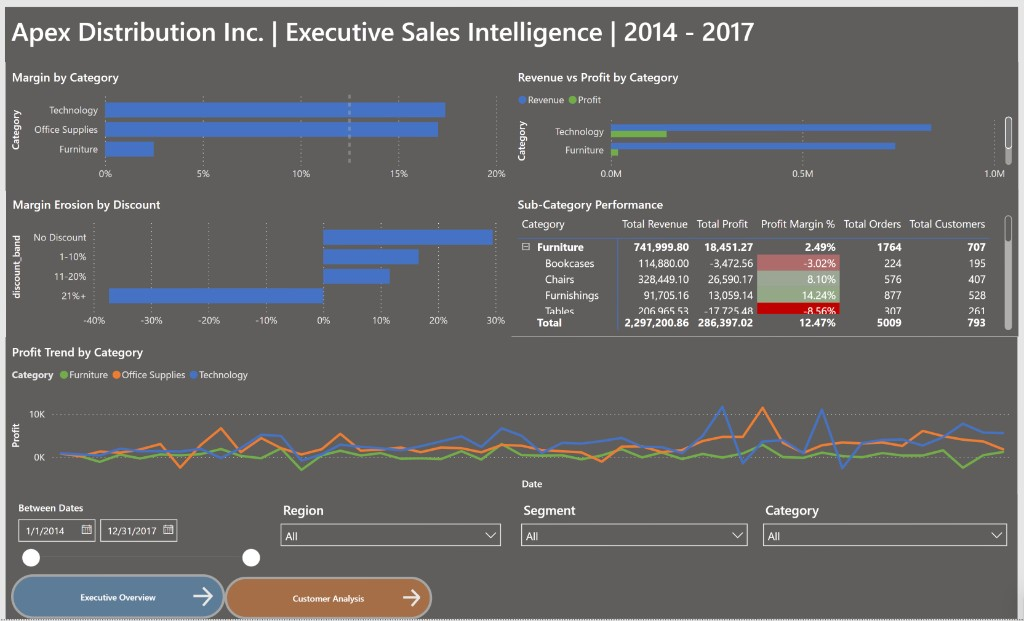

The page's visual inventory and layout, read from the dashboard file:
{"tool":"powerbi","page":{"name":"Product & Profitability","canvas":[1280,775],"ordinal":2},"visuals":[{"type":"clusteredBarChart","title":"Margin by Category","fields":{"Category":["sales_executive.category"],"Y":["measure table.Profit Margin %"]},"box":[9.6,80.1,629.6,159.4],"z":0},{"type":"clusteredBarChart","title":"Revenue vs Profit by Category","fields":{"Category":["sales_executive.category"],"Y":["measure table.Total Revenue","measure table.Total Profit"]},"box":[640,80.1,631.3,160.2],"z":1},{"type":"clusteredBarChart","title":"Margin Erosion by Discount","fields":{"Category":["sales_executive.discount_band"],"Y":["measure table.Profit Margin %"]},"box":[10.4,239.5,629.6,184.6],"z":2},{"type":"pivotTable","title":"Sub-Category Performance","fields":{"Rows":["sales_executive.category","sales_executive.sub_category"],"Values":["measure table.Total Revenue","measure table.Total Profit","measure table.Profit Margin %","measure table.Total Orders","measure table.Total Customers"]},"box":[640,239.5,631.3,183.7],"z":3},{"type":"slicer","fields":{"Values":["Dim Date.Date"]},"box":[9.7,619.5,329.7,100.5],"z":4},{"type":"slicer","fields":{"Values":["sales_executive.region"]},"box":[339.4,619.5,300.6,100.5],"z":5},{"type":"slicer","fields":{"Values":["sales_executive.segment"]},"box":[640,619.5,300.6,100.5],"z":6},{"type":"slicer","fields":{"Values":["sales_executive.category"]},"box":[940.6,619.5,329.7,100.5],"z":7},{"type":"lineChart","title":"Profit Trend by Category","fields":{"Category":["Dim Date.YearMonth"],"Y":["measure table.Total Profit"],"Series":["sales_executive.category"]},"box":[9.7,423.1,1260.6,198.3],"z":8},{"type":"actionButton","title":"Executive Overview","box":[282.7,722.2,258.6,52.8],"z":9},{"type":"actionButton","title":"Executive Overview","box":[16.5,719.3,266.5,55.7],"z":10},{"type":"textbox","box":[9.6,11.3,1261.8,68.8],"z":11}]}

Visuals, with their boxes in screenshot pixels (x1, y1, x2, y2), scaled from the page's 1280x775 canvas onto the 1024x621 screenshot:
"Margin by Category" clusteredBarChart: [8, 64, 511, 192]
"Revenue vs Profit by Category" clusteredBarChart: [512, 64, 1017, 193]
"Margin Erosion by Discount" clusteredBarChart: [8, 192, 512, 340]
"Sub-Category Performance" pivotTable: [512, 192, 1017, 339]
slicer - Dim Date.Date: [8, 496, 272, 577]
slicer - sales_executive.region: [272, 496, 512, 577]
slicer - sales_executive.segment: [512, 496, 752, 577]
slicer - sales_executive.category: [752, 496, 1016, 577]
"Profit Trend by Category" lineChart: [8, 339, 1016, 498]
"Executive Overview" actionButton: [226, 579, 433, 620]
"Executive Overview" actionButton: [13, 576, 226, 620]
textbox: [8, 9, 1017, 64]
